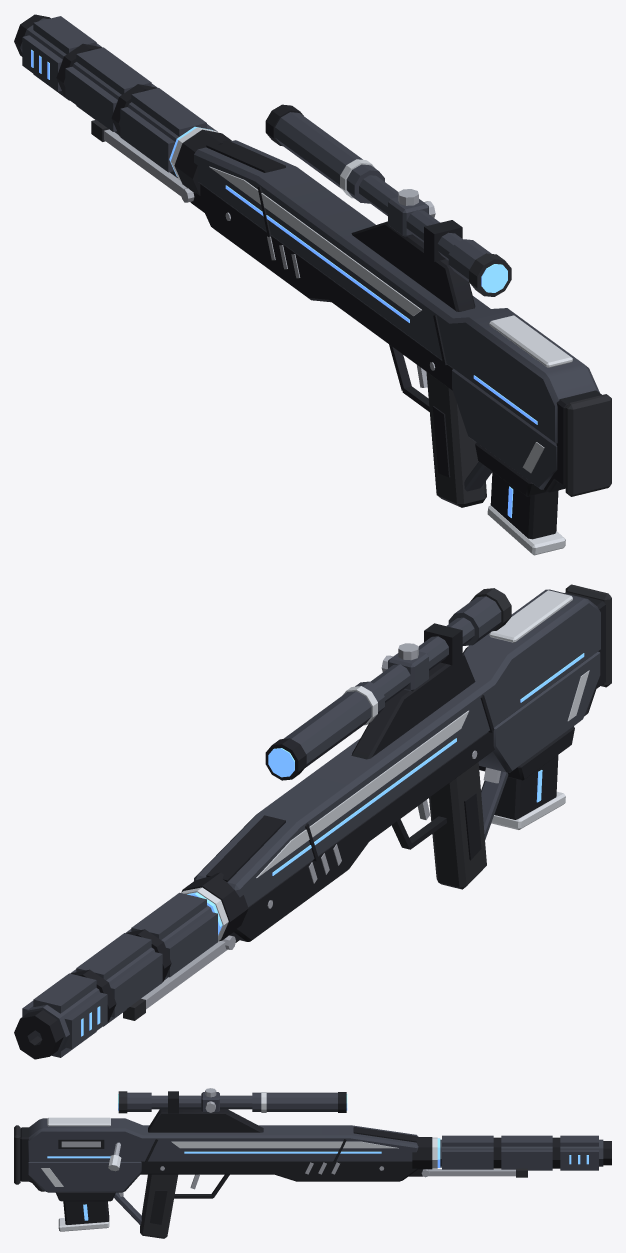
The model's file is GhostlineXR.glb.
3 renders of one model, top to bottom at view 1: azimuth 30°, elevation 25°; view 2: azimuth 150°, elevation 25°; view 3: azimuth 270°, elevation 25°, orthographic. The views are drawn at different scales.
Visible parts, largest first — view 1: Shell, Lower, ActionBelly, ButtPad, ScopeBridge, Grip, Sunshade, GhostBlade, Mag, ScopeTube, SuppSide-1_0, SuppTop0 (+18 smaller); view 2: Shell, Lower, ActionBelly, Grip, ScopeBridge, Sunshade, GhostBlade, Mag, ScopeTube, MuzzleCap, SuppSide-1_1, SuppSide-1_0 (+20 smaller); view 3: Shell, Lower, ActionBelly, ScopeBridge, GhostBlade, Sunshade, Grip, ScopeTube, Mag, SuppSide1_0, SuppSide1_1, Suppressor (+24 smaller).
Part boxes in pixels (x1,y1,x2,y2): Shell: (194,140,599,443); Lower: (196,183,452,390); ActionBelly: (452,368,557,489); ButtPad: (565,394,611,496); ScopeBridge: (351,221,475,311); Grip: (426,372,486,507); Sunshade: (275,112,384,203); GhostBlade: (209,166,421,316); Mag: (490,471,558,539); ScopeTube: (359,175,462,260); SuppSide-1_0: (120,107,175,172); SuppTop0: (131,88,206,136); Shell: (194,589,600,906); Lower: (234,731,494,941); ActionBelly: (478,651,600,772); Grip: (429,762,486,889); ScopeBridge: (351,653,475,759); Sunshade: (283,681,384,767); GhostBlade: (256,710,468,877); Mag: (494,755,558,819); ScopeTube: (370,617,474,702); MuzzleCap: (14,1010,63,1059); SuppSide-1_1: (110,952,162,1017); SuppSide-1_0: (165,912,217,977); Shell: (28,1118,418,1161); Lower: (140,1161,417,1181); ActionBelly: (28,1161,141,1192); ScopeBridge: (148,1109,263,1132); GhostBlade: (171,1141,398,1148); Sunshade: (252,1092,337,1111); Grip: (140,1174,177,1238); ScopeTube: (151,1095,252,1109); Mag: (63,1201,109,1224); SuppSide1_0: (442,1150,493,1167); SuppSide1_1: (501,1150,552,1167); Suppressor: (440,1139,603,1166).
Size of the model in its own units: 0.518 by 1.47 by 5.46.
